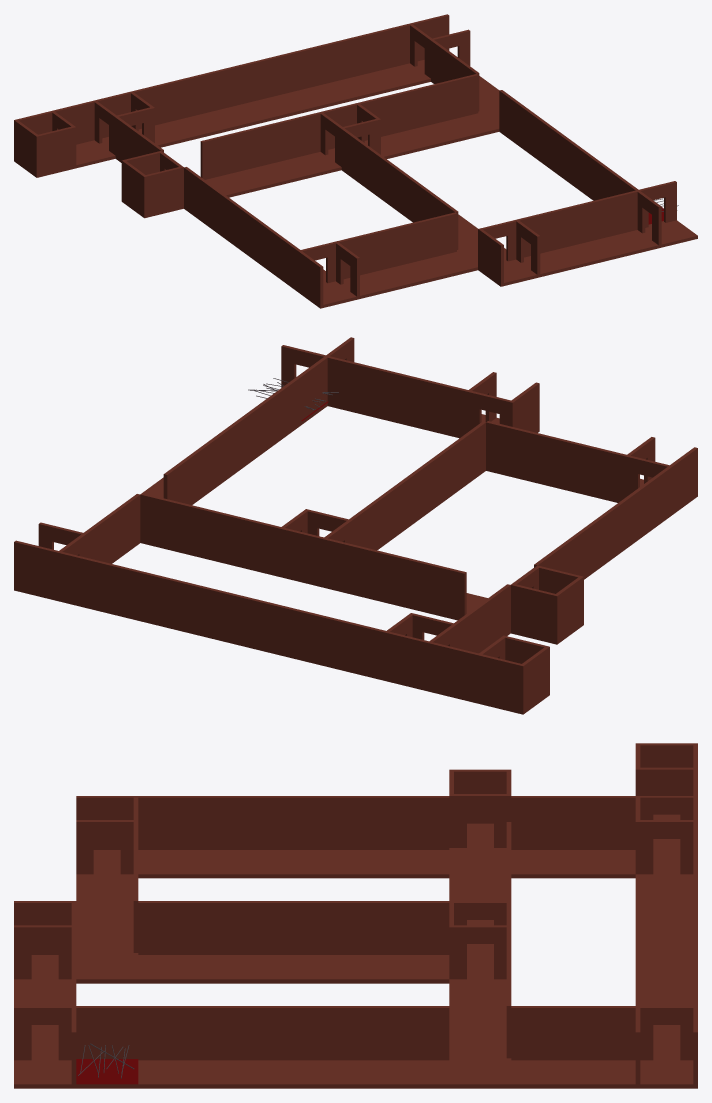
File: beta_map_fbx (1).fbx
3 views of the same model, one above another, from view 1: azimuth 30°, elevation 25°; view 2: azimuth 150°, elevation 25°; view 3: azimuth 270°, elevation 25° (orthographic). The views are drawn at different scales.
Parts seen in each view (by area): view 1: baseCube.012, baseCube.016, baseLcube.005, baseLcube.006, baseCube.032, baseCube.055, baseCube.053, baseCube.029, baseCube.050, baseCube.052, baseCube.027, baseCube.028 (+37 smaller); view 2: baseCube.012, baseCube.016, baseCube.015, baseCube.014, baseLcube.004, baseLcube.006, baseLcube.005, baseCube.027, baseCube.051, baseCube.048, baseCube.049, baseCube.052 (+35 smaller); view 3: baseCube.020, baseCube.026, baseCube.034, baseCube.035, baseCube.036, baseCube.038, baseCube.039, baseCube.040, baseCube.042, baseCube.044, baseCube.045, baseCube.046 (+42 smaller).
Boxes of the visible parts, x1,y1,x2,y2 form: baseCube.012: [14, 110, 76, 177]; baseCube.016: [121, 151, 183, 217]; baseLcube.005: [297, 241, 359, 308]; baseLcube.006: [478, 219, 540, 286]; baseCube.032: [437, 74, 499, 141]; baseCube.055: [211, 62, 273, 129]; baseCube.053: [596, 190, 658, 257]; baseCube.029: [280, 112, 341, 179]; baseCube.050: [416, 212, 477, 279]; baseCube.052: [557, 200, 618, 267]; baseCube.027: [200, 131, 262, 197]; baseCube.028: [240, 122, 301, 189]; baseCube.012: [477, 635, 549, 714]; baseCube.016: [511, 565, 583, 644]; baseCube.015: [279, 509, 352, 587]; baseCube.014: [384, 613, 457, 691]; baseLcube.004: [14, 522, 86, 597]; baseLcube.006: [466, 372, 539, 432]; baseLcube.005: [625, 437, 697, 511]; baseCube.027: [418, 561, 487, 620]; baseCube.051: [420, 379, 485, 438]; baseCube.048: [578, 443, 643, 502]; baseCube.049: [532, 432, 580, 493]; baseCube.052: [374, 367, 421, 428]; baseCube.020: [511, 796, 573, 878]; baseCube.026: [138, 796, 200, 878]; baseCube.034: [511, 1006, 573, 1088]; baseCube.035: [573, 1006, 635, 1088]; baseCube.036: [387, 1006, 449, 1088]; baseCube.038: [262, 1006, 324, 1088]; baseCube.039: [200, 1006, 262, 1088]; baseCube.040: [138, 1006, 200, 1088]; baseCube.042: [387, 901, 449, 983]; baseCube.044: [262, 901, 324, 983]; baseCube.045: [200, 901, 262, 983]; baseCube.046: [138, 901, 200, 983].
Size of the model in its own units: 2237 by 200 by 2200.
